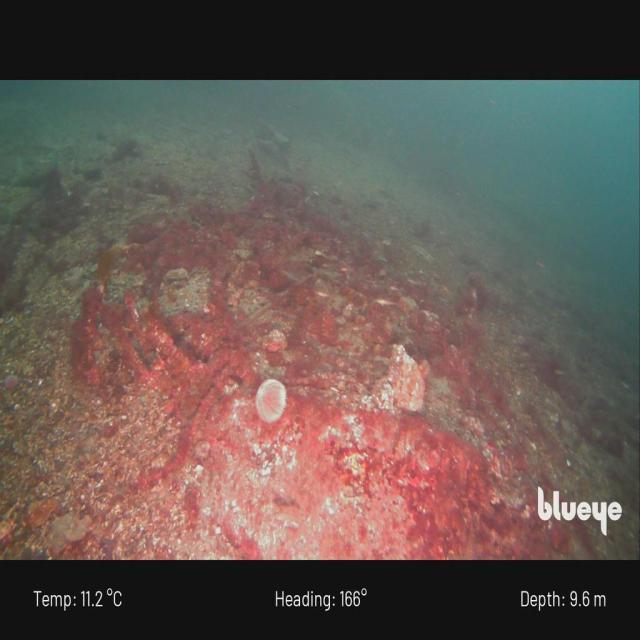Deniz Kestanesi: (255, 379, 286, 423)
